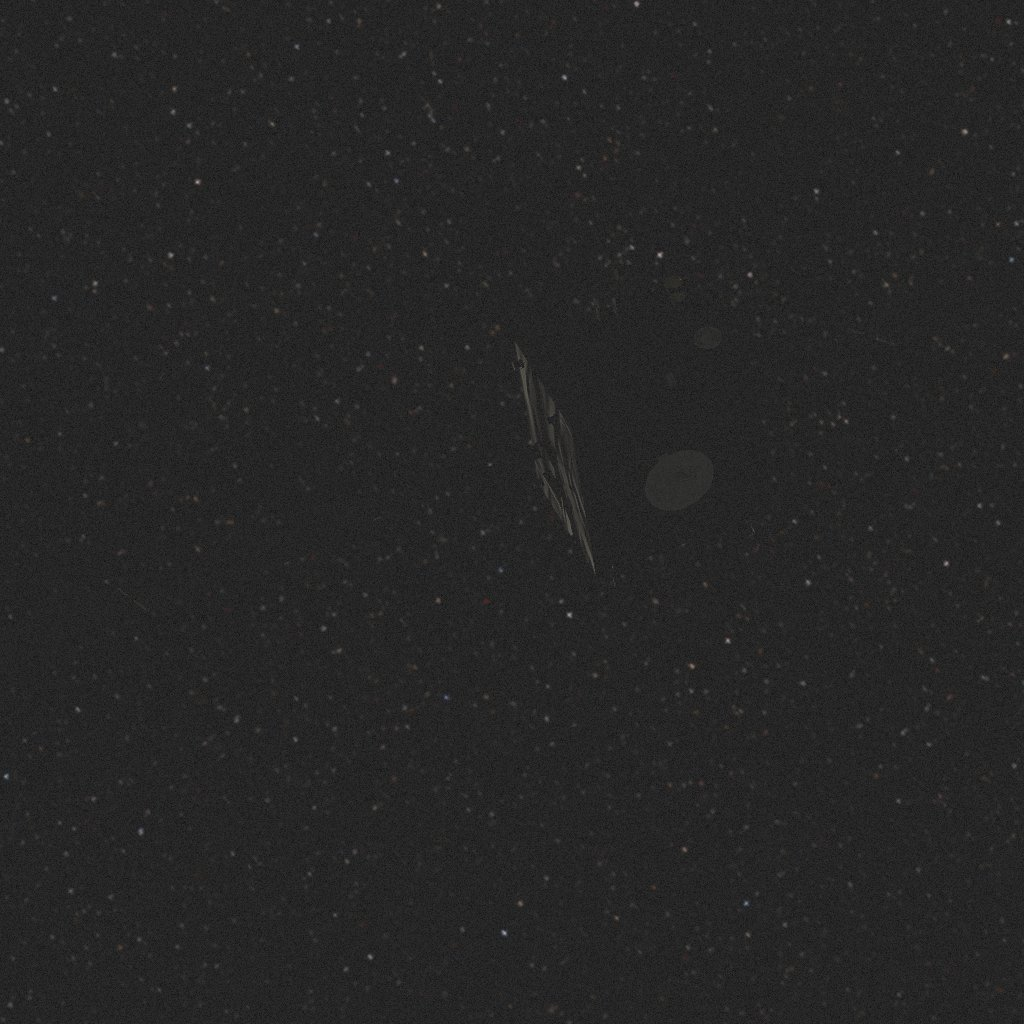smart_1: (0, 265, 1024, 664)
